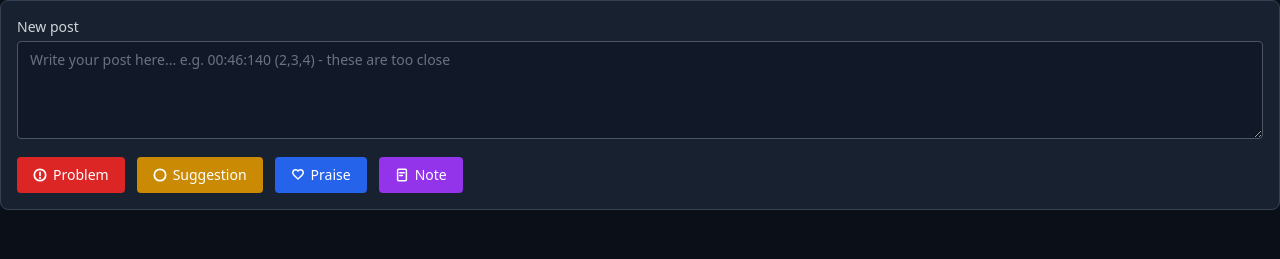
Test case: CreatePostForm › shows error when mapset is locked
Step 1. Type "some text" into the text box labelled "New post" → coordinates (640, 90), box [17, 41, 1263, 139]
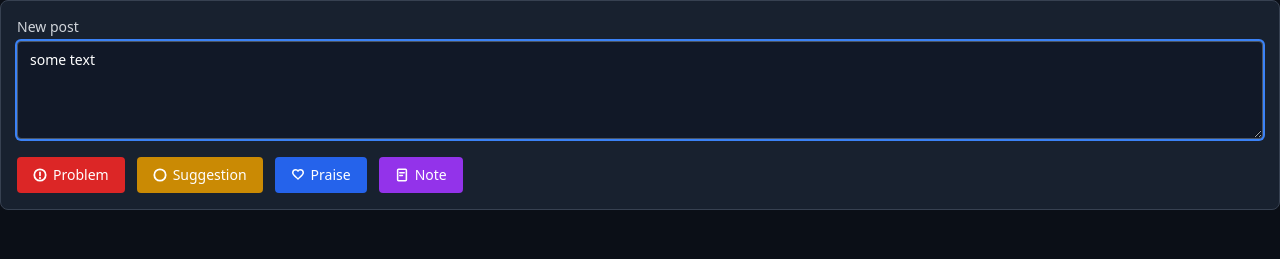
Step 2. Click the button "Note" → coordinates (421, 175), box [379, 157, 463, 193]
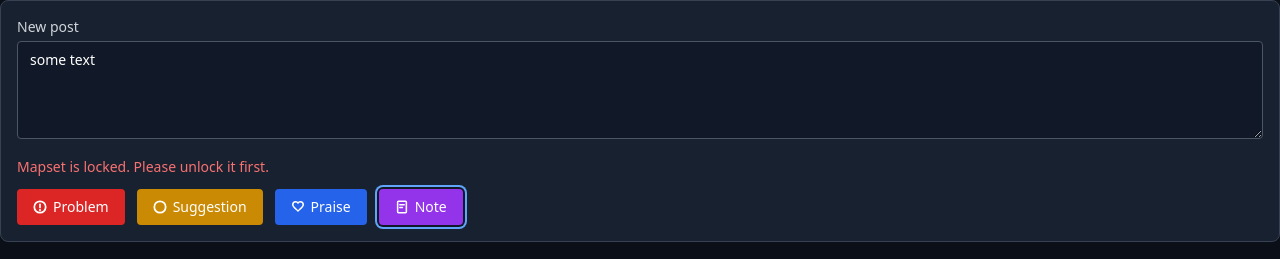
Result: the text "Mapset is locked. Please unlock it first." is shown at [17, 157, 269, 176]
